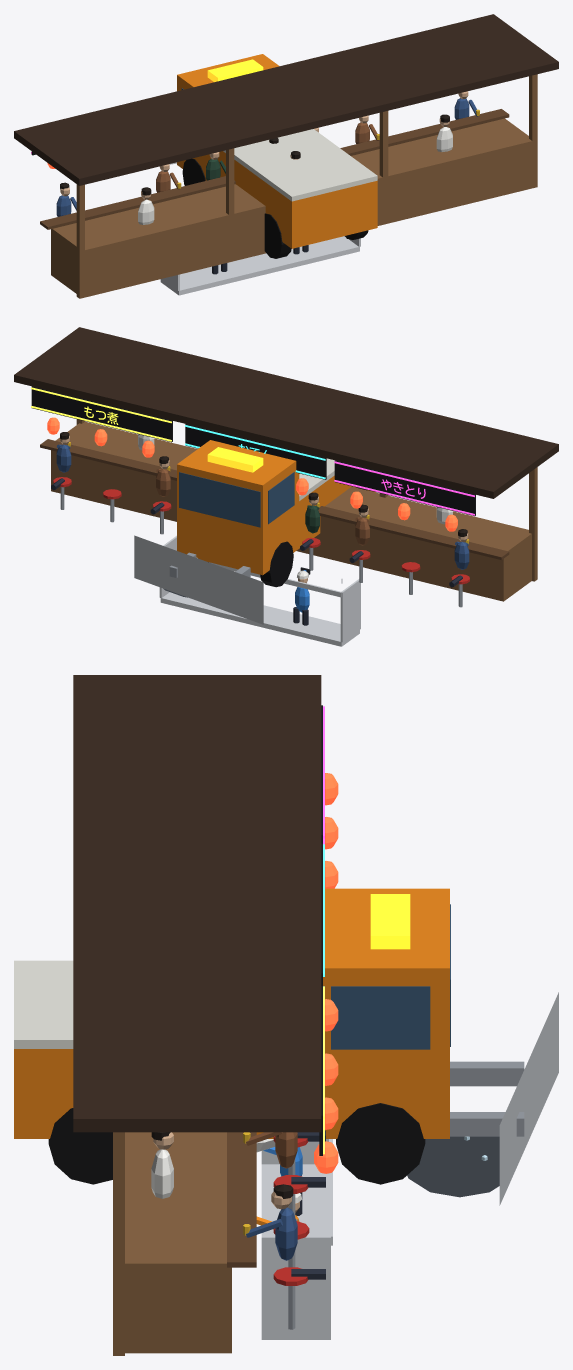
File: city12.glb
3 views of the same model, one above another, from view 1: azimuth 30°, elevation 25°; view 2: azimuth 150°, elevation 25°; view 3: azimuth 270°, elevation 25° (orthographic). The views are drawn at different scales.
Parts seen in each view (by area): view 1: C12_YataiMura, C12_SnowPlow, C12_Gondola; view 2: C12_YataiMura, C12_SnowPlow, C12_Gondola; view 3: C12_YataiMura, C12_SnowPlow, C12_Gondola, C12_Uchimizu.
Boxes of the visible parts, x1,y1,x2,y2 form: C12_YataiMura: (14, 14, 558, 298); C12_SnowPlow: (169, 54, 377, 258); C12_Gondola: (160, 236, 360, 295); C12_YataiMura: (14, 327, 558, 607); C12_SnowPlow: (134, 440, 375, 624); C12_Gondola: (159, 535, 360, 646); C12_YataiMura: (73, 675, 338, 1355); C12_SnowPlow: (14, 888, 558, 1205); C12_Gondola: (256, 1139, 332, 1339); C12_Uchimizu: (407, 1136, 499, 1197).
Size of the model in its own units: 10.6 by 4 by 5.5.
